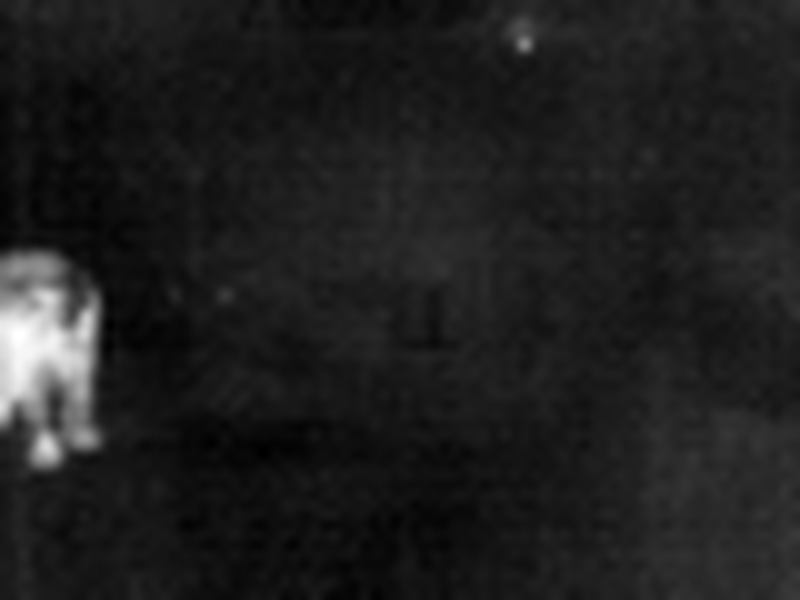elephant: (2, 239, 114, 455)
